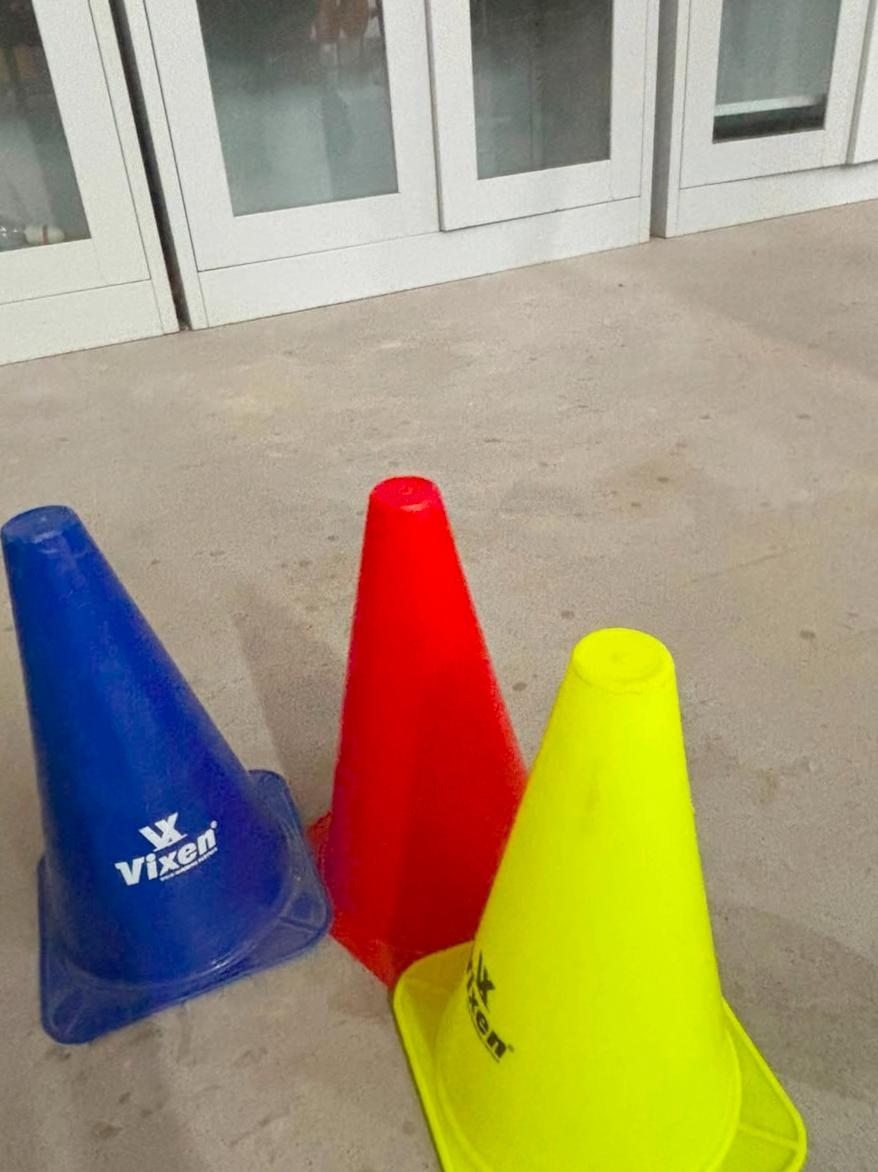0 cone: (2, 477, 806, 1172)
